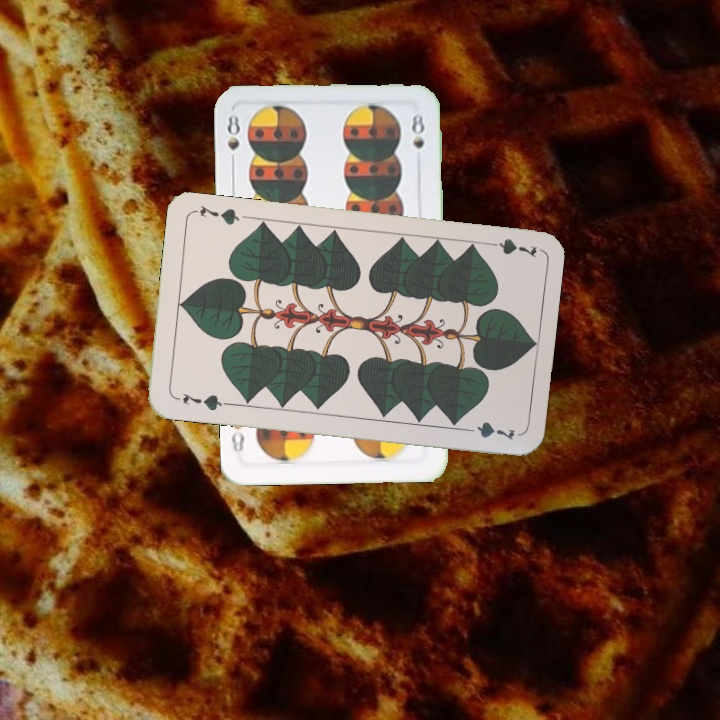G7: (480, 234, 539, 261), (171, 388, 230, 414)
S8: (222, 110, 243, 169)
